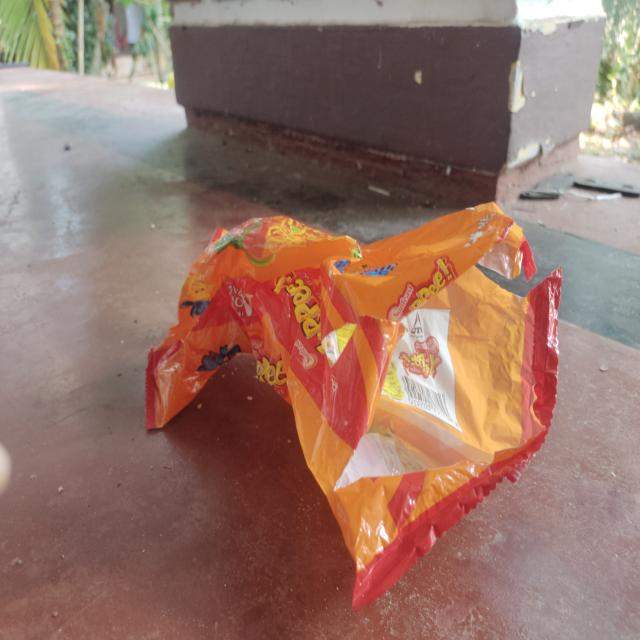plastic: (145, 213, 565, 606)
